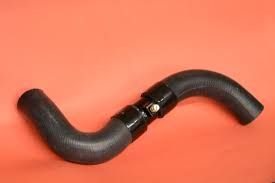radiator_hose: (20, 70, 263, 165)
